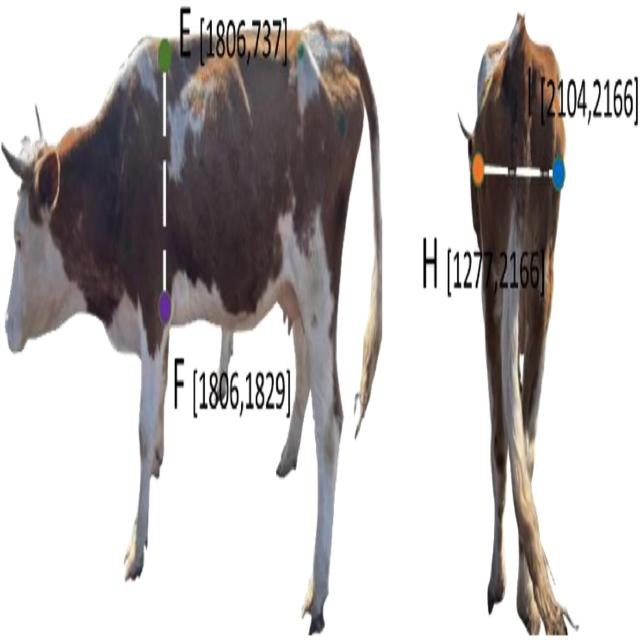Ox: (11, 21, 384, 640)
